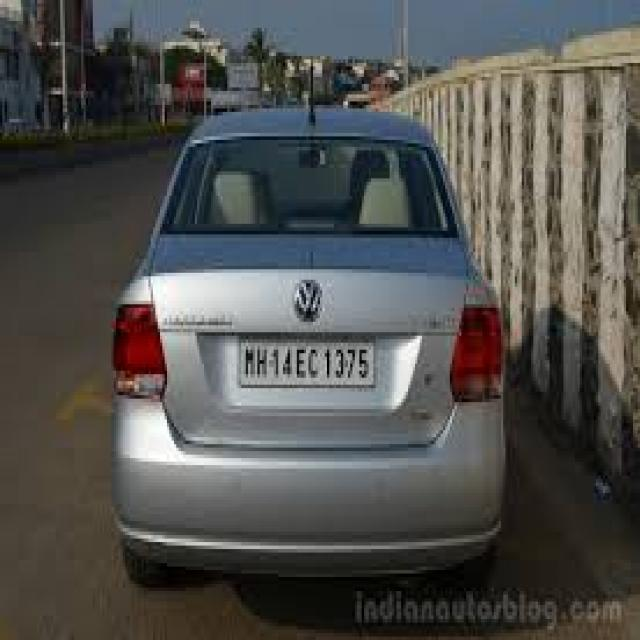Number-Plate: (241, 341, 373, 384)
